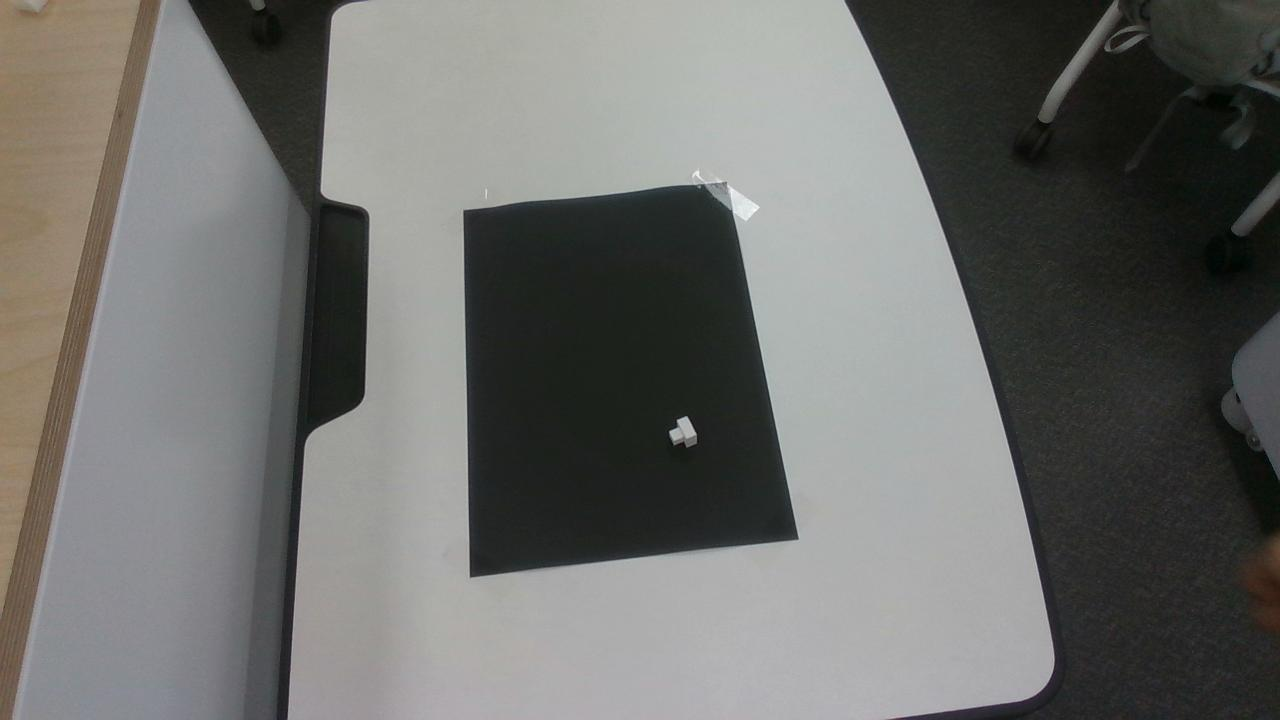cube: (669, 416, 697, 446)
